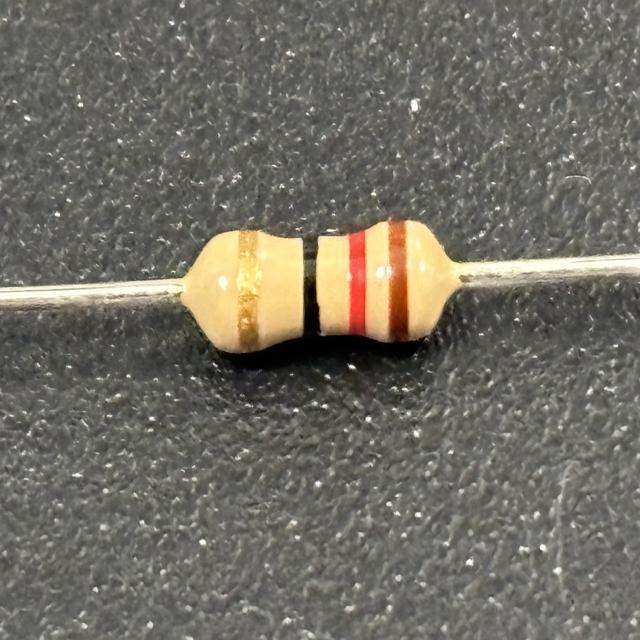resistor: (195, 212, 454, 362)
